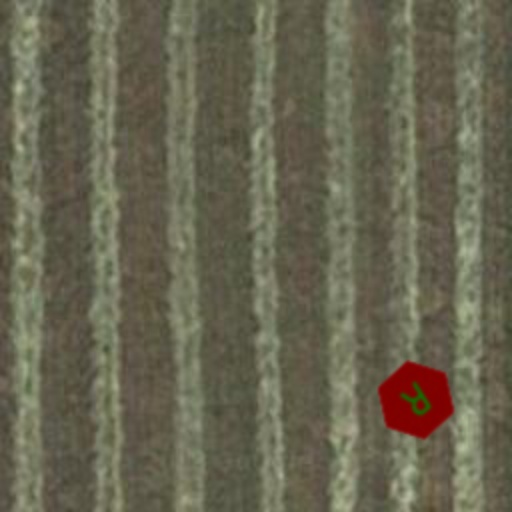hexagon: (358, 342, 474, 458)
